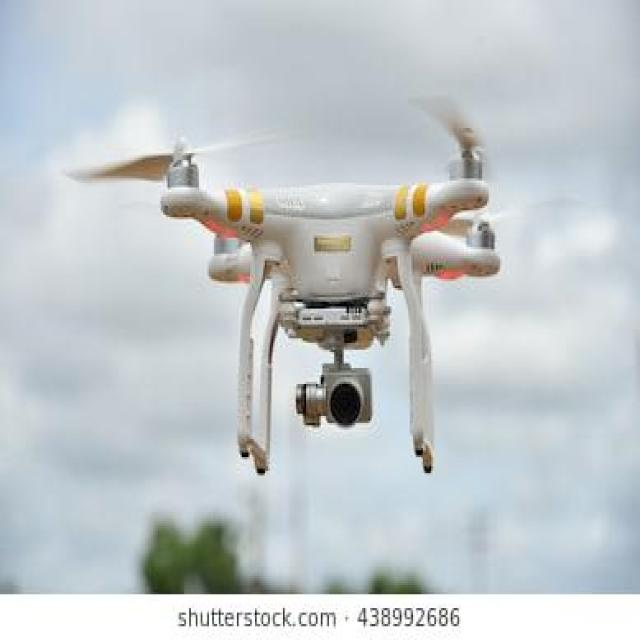drone: (122, 73, 550, 505)
